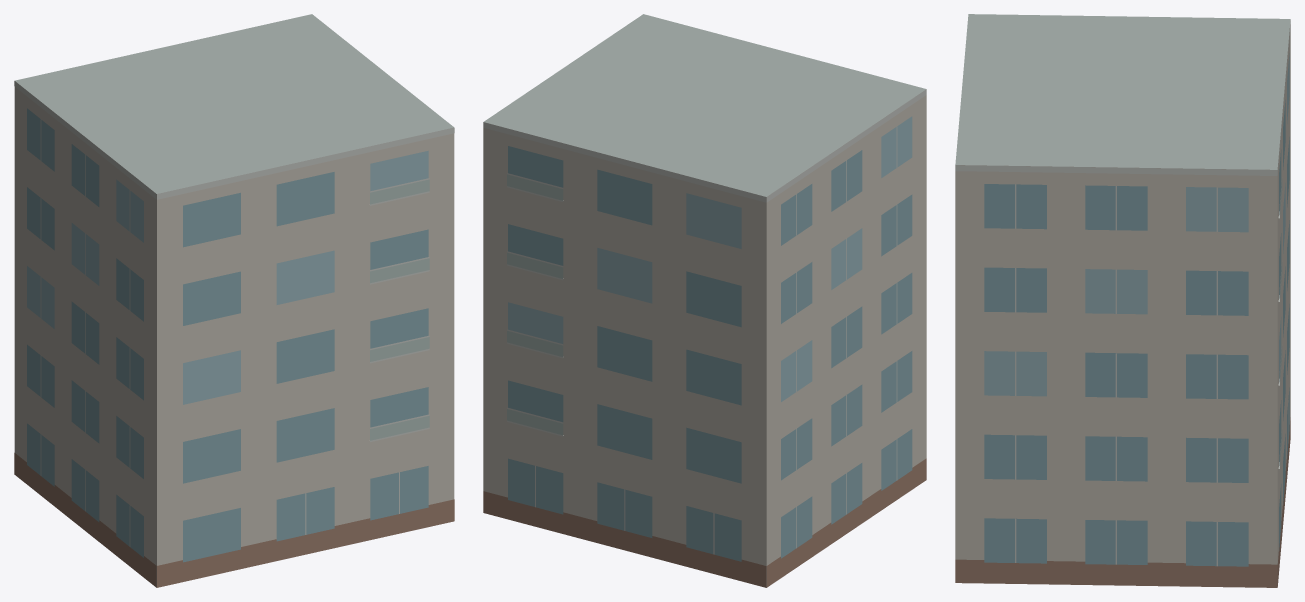
The model's file is survey-upis-32958798.glb.
3 renders of one model, left to right at view 1: azimuth 30°, elevation 25°; view 2: azimuth 150°, elevation 25°; view 3: azimuth 270°, elevation 25°, orthographic. The views are drawn at different scales.
Visible parts, largest first — view 1: survey-upis-32958798.tmp; view 2: survey-upis-32958798.tmp; view 3: survey-upis-32958798.tmp.
Boxes of the visible parts, <box> form: survey-upis-32958798.tmp: <box>14,14,454,587</box>; survey-upis-32958798.tmp: <box>483,14,926,587</box>; survey-upis-32958798.tmp: <box>955,14,1290,587</box>.
Bounding box in the file's own units: 13.21 × 16.5 × 12.01.
